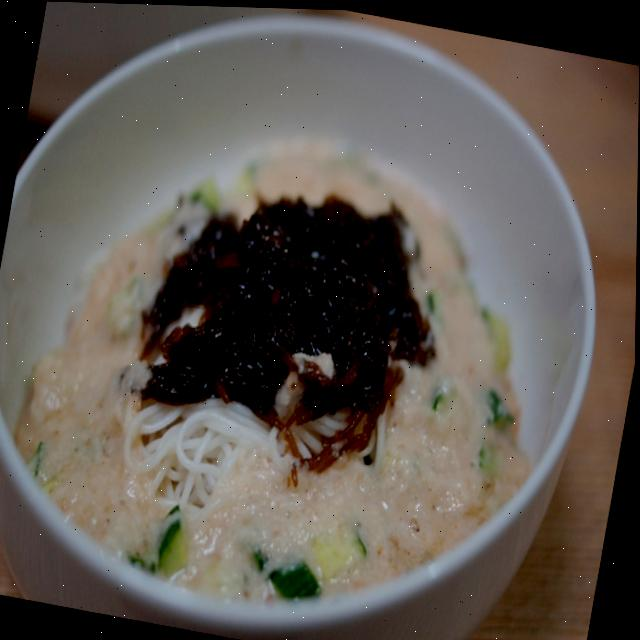蔬菜料理: (0, 8, 610, 622)
